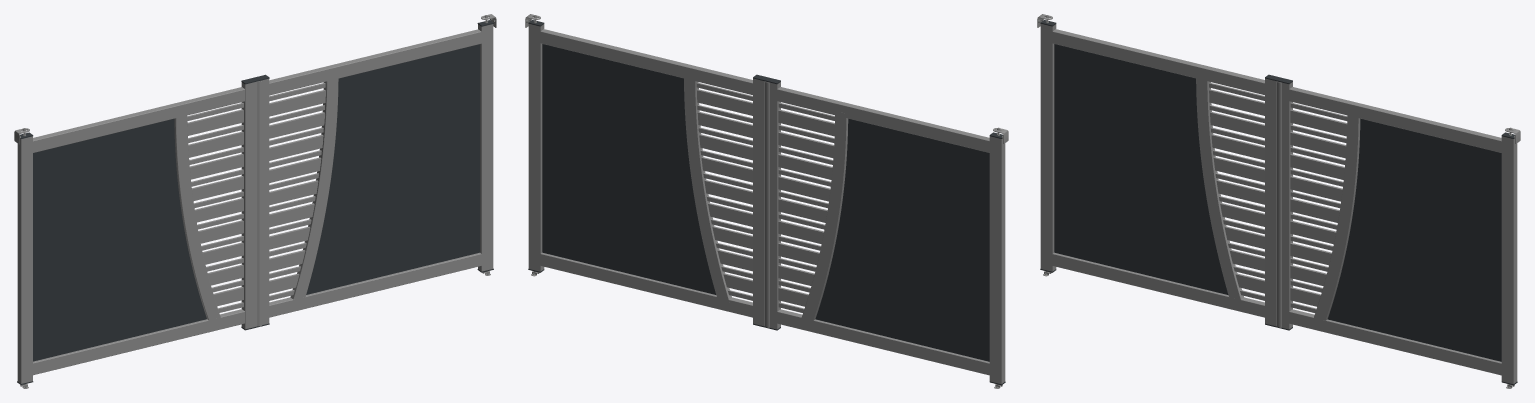
The picture shows the model from 3 angles, left to right: view 1: azimuth 30°, elevation 25°; view 2: azimuth 150°, elevation 25°; view 3: azimuth 330°, elevation 25°; orthographic projection.
Parts seen in each view (by area): view 1: Chapa Alucobond014, Chapa Alucobond039, Shape107412643, Shape107412740, Shape107412458, Shape107412638, Shape107412758, Shape107412759, Shape107412459, Shape107412760, Shape200, Shape107412739 (+17 smaller); view 2: Chapa Alucobond014, Chapa Alucobond039, Shape107412643, Shape107412740, Shape107412758, Shape107412458, Shape107412760, Shape200, Shape107412759, Shape107412459, Shape107412739, Shape107412638 (+18 smaller); view 3: Chapa Alucobond014, Chapa Alucobond039, Shape107412740, Shape107412643, Shape107412458, Shape107412758, Shape107412759, Shape107412459, Shape200, Shape107412760, Shape107412638, Shape107412739 (+18 smaller).
Part boxes in pixels (box(x1,y1,x2,y2)): Chapa Alucobond014: box(33, 119, 206, 361); Chapa Alucobond039: box(306, 44, 479, 294); Shape107412643: box(17, 136, 32, 383); Shape107412740: box(478, 24, 493, 271); Shape107412458: box(33, 87, 244, 152); Shape107412638: box(241, 81, 256, 329); Shape107412758: box(269, 29, 481, 95); Shape107412759: box(269, 252, 481, 317); Shape107412459: box(33, 309, 244, 375); Shape107412760: box(290, 74, 338, 299); Shape200: box(174, 115, 220, 320); Shape107412739: box(258, 78, 269, 324); Chapa Alucobond014: box(815, 118, 989, 361); Chapa Alucobond039: box(542, 44, 715, 294); Shape107412643: box(989, 136, 1005, 383); Shape107412740: box(528, 24, 544, 271); Shape107412758: box(540, 29, 752, 95); Shape107412458: box(777, 87, 989, 152); Shape107412760: box(684, 78, 731, 303); Shape200: box(801, 111, 848, 326); Shape107412759: box(540, 252, 752, 317); Shape107412459: box(777, 309, 989, 375); Shape107412739: box(753, 78, 764, 326); Shape107412638: box(765, 81, 780, 329); Chapa Alucobond014: box(1054, 44, 1228, 294); Chapa Alucobond039: box(1327, 118, 1501, 361); Shape107412740: box(1501, 136, 1517, 383); Shape107412643: box(1040, 24, 1056, 271); Shape107412458: box(1052, 29, 1264, 95); Shape107412758: box(1289, 87, 1501, 152); Shape107412759: box(1289, 309, 1501, 375); Shape107412459: box(1052, 252, 1264, 317); Shape200: box(1196, 78, 1244, 299); Shape107412760: box(1314, 111, 1360, 320); Shape107412638: box(1265, 78, 1276, 326); Shape107412739: box(1277, 81, 1292, 329).
Size of the model in its own units: 3260 by 1688 by 68.93.
Materials: 5 (2 with a texture image).
